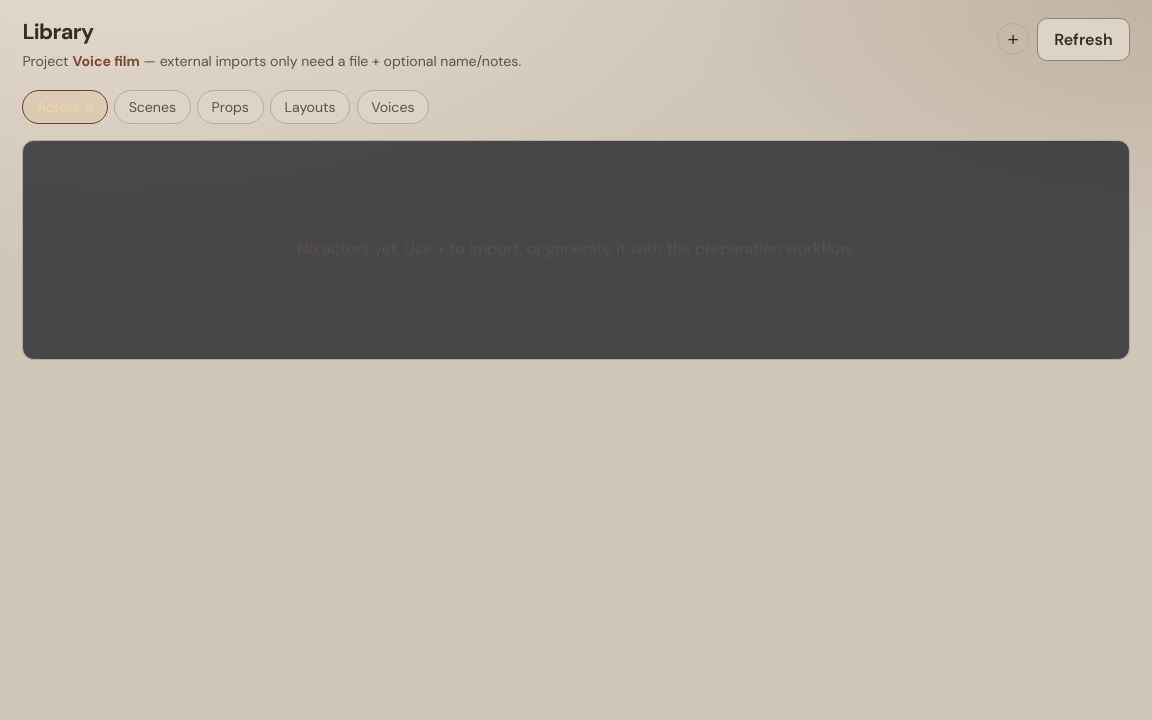
it: LibraryPage Voices › switches the import form to required Name and Audio file
The image size is (1152, 720).
Click the button "Voices" at (393, 107), box [356,90,429,124]
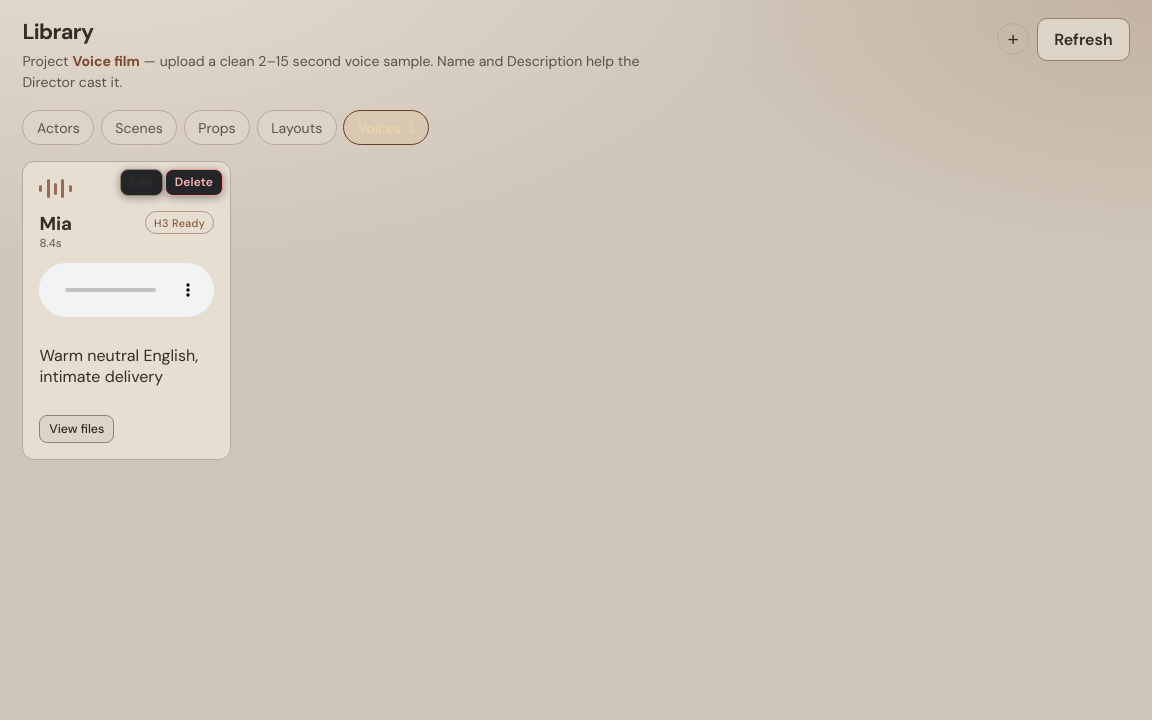
Click the button named "Import Voices" at (1013, 40), box [997,24,1029,56]
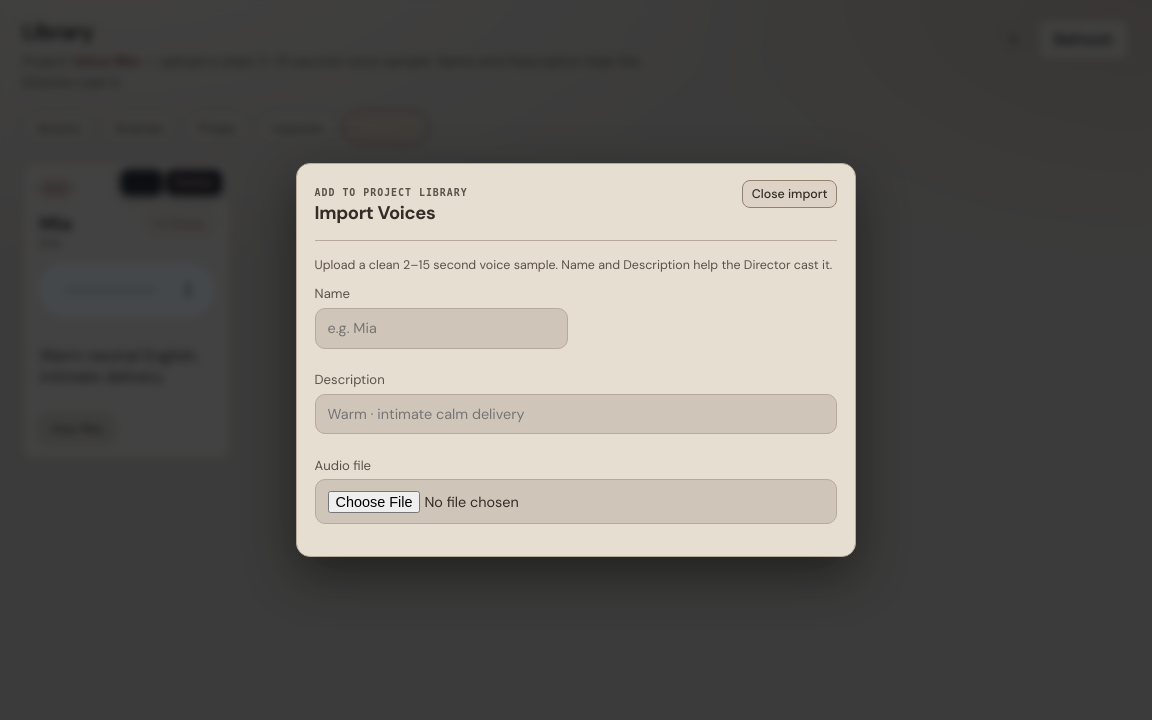
Result: the dialog "Import Voices" is shown
Result: the field labelled "Description" is shown at [315,394,837,434]
